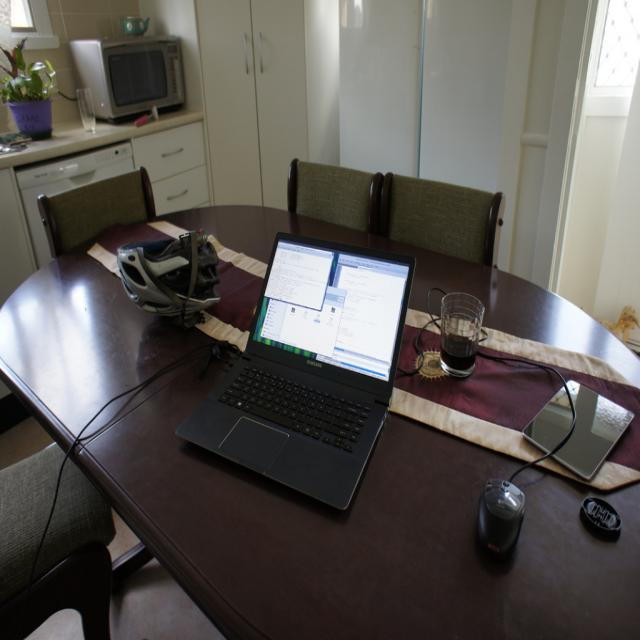chair: (381, 172, 505, 269), (38, 166, 158, 263), (288, 160, 383, 235)
desk: (0, 203, 638, 636)
laptop: (176, 224, 416, 512)
mouse: (476, 477, 526, 564)
